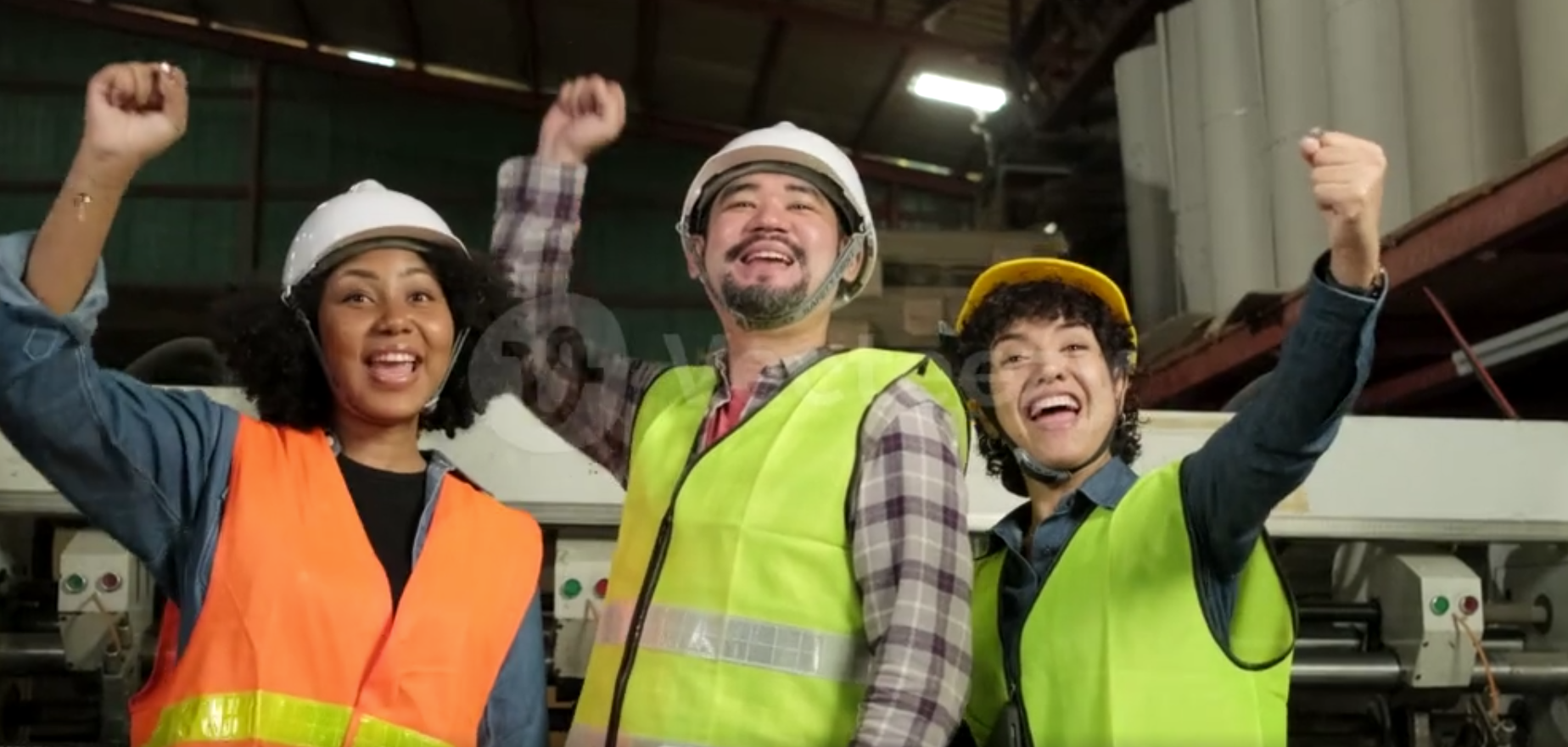safety_helmet: (278, 177, 477, 410), (950, 255, 1140, 485), (675, 119, 879, 315), (948, 255, 1139, 409), (279, 177, 474, 308), (953, 255, 1138, 369)
